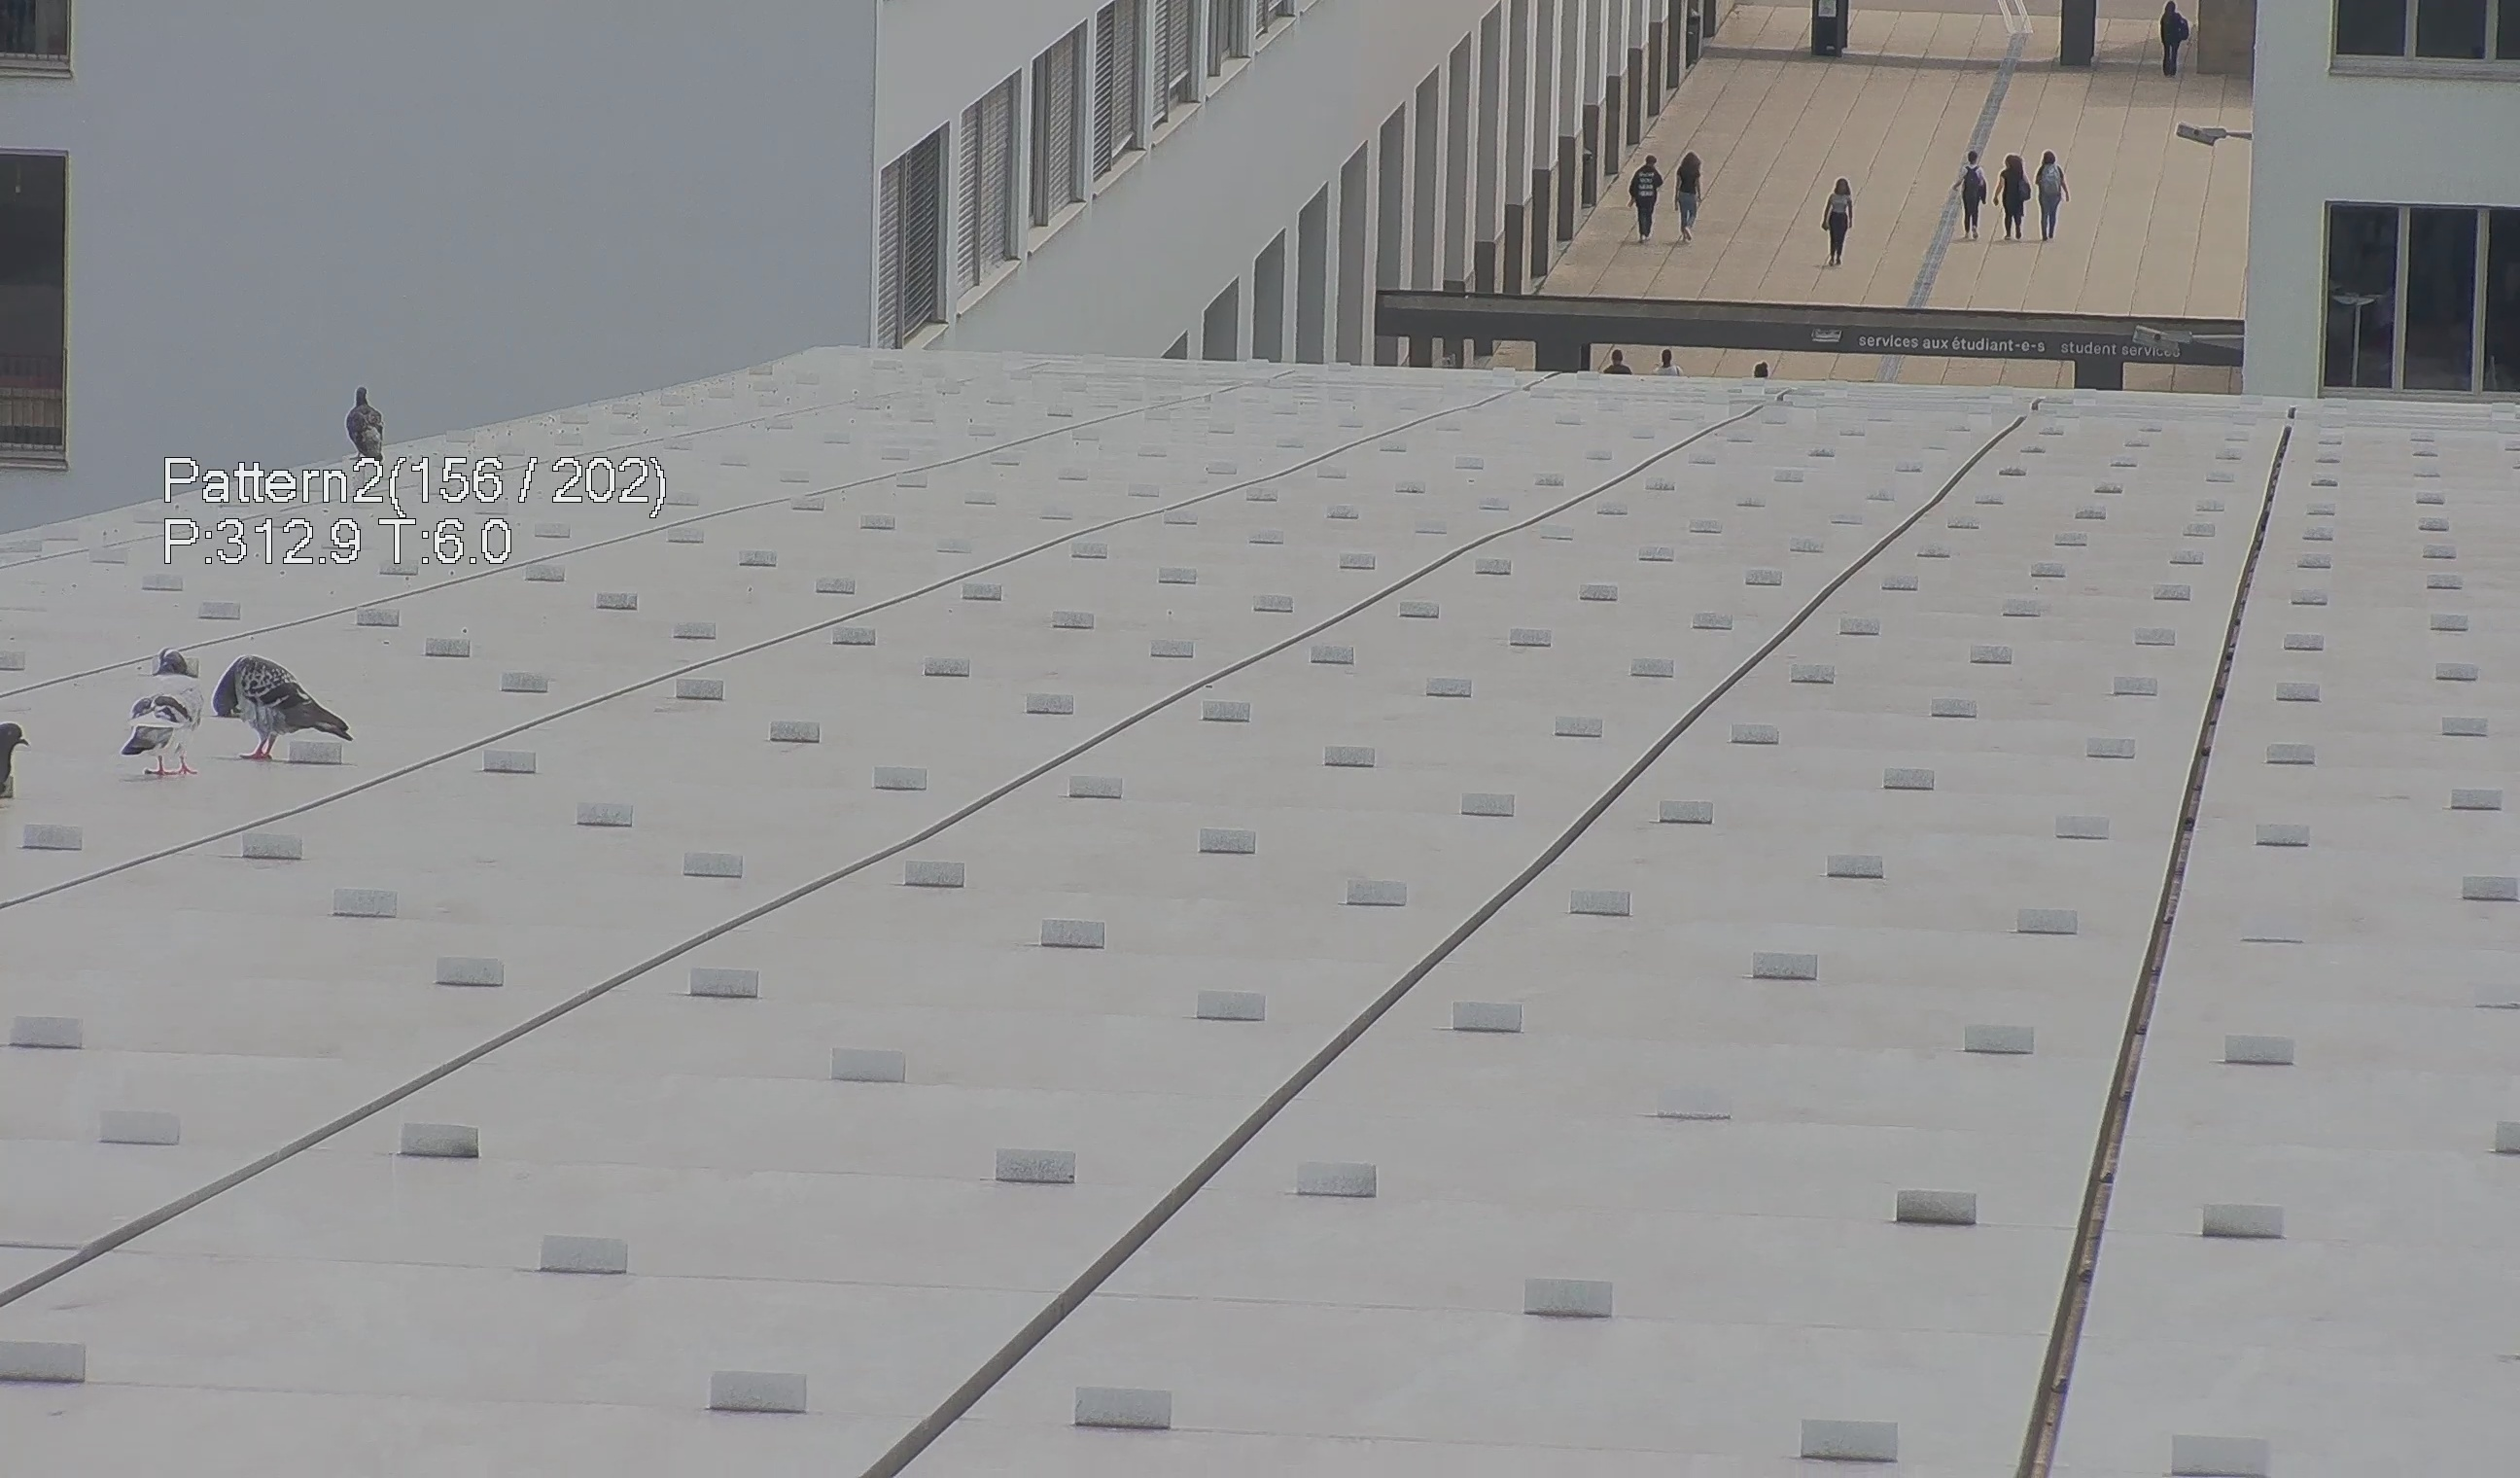Pigeon: (204, 640, 353, 769), (114, 633, 213, 790), (334, 378, 389, 484), (2, 704, 47, 809)
